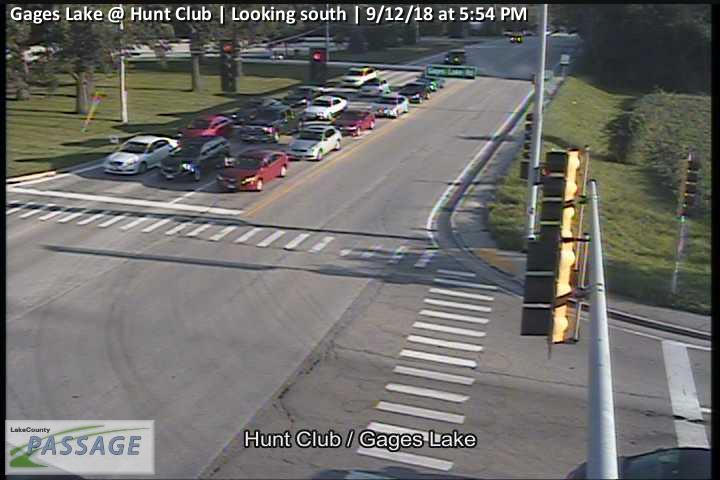SUV: (161, 136, 229, 181), (241, 104, 294, 143), (341, 65, 377, 87), (361, 79, 392, 96)
Sedan: (216, 148, 289, 192), (104, 135, 175, 174), (286, 125, 342, 162), (177, 113, 234, 141), (330, 109, 375, 138), (301, 94, 348, 121), (240, 98, 280, 120), (370, 93, 409, 115), (285, 85, 324, 106), (400, 82, 428, 105), (417, 76, 443, 90)
